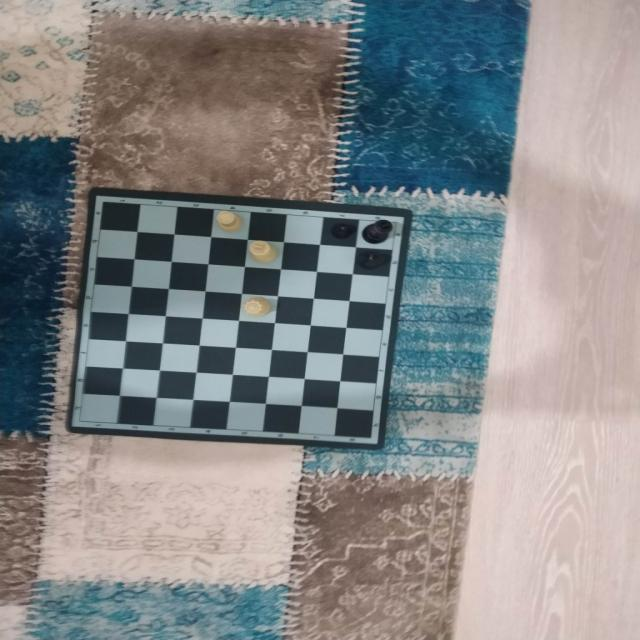corner: (69, 414, 89, 428), (361, 432, 380, 443), (96, 197, 111, 208), (390, 216, 403, 228)
